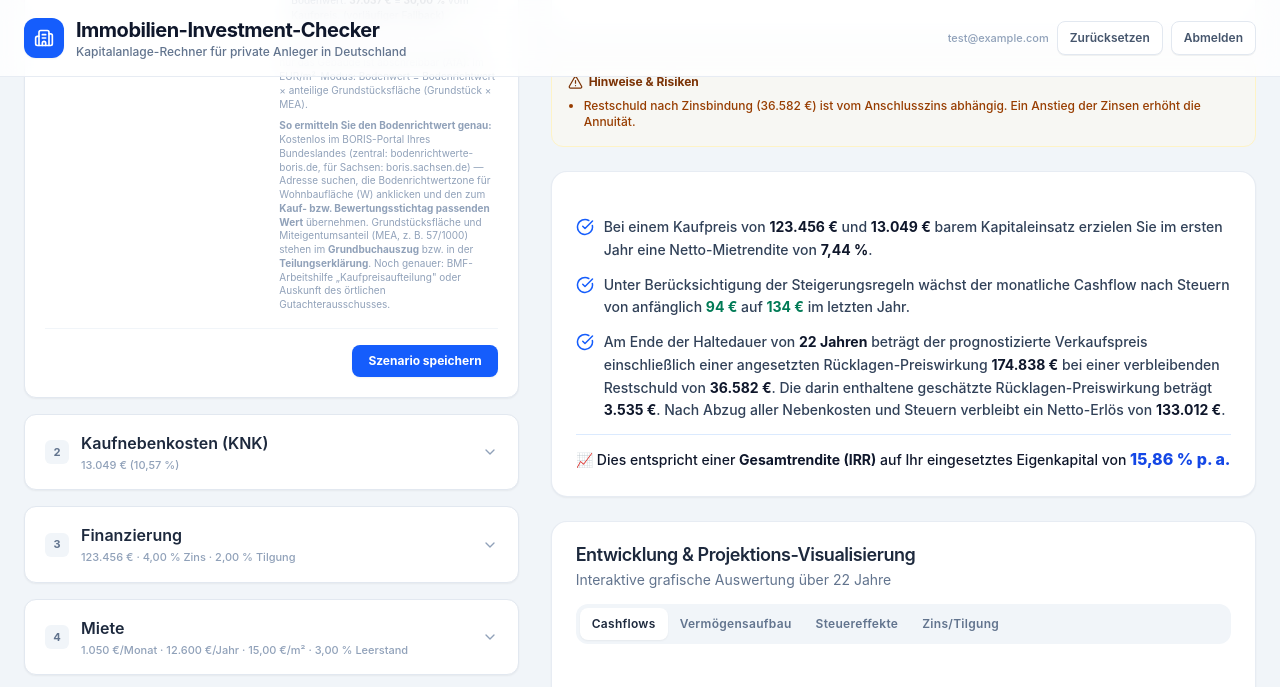
Test: Szenario speichern über Abschnitts-Buttons › speichert über den Abschnitts-Button immer das komplette Szenario
(page scrolled)
# Nur der Button des offenen Objekt-Abschnitts ist gerendert.
Click the button "Szenario speichern" at (425, 361), box [352,345,498,377]
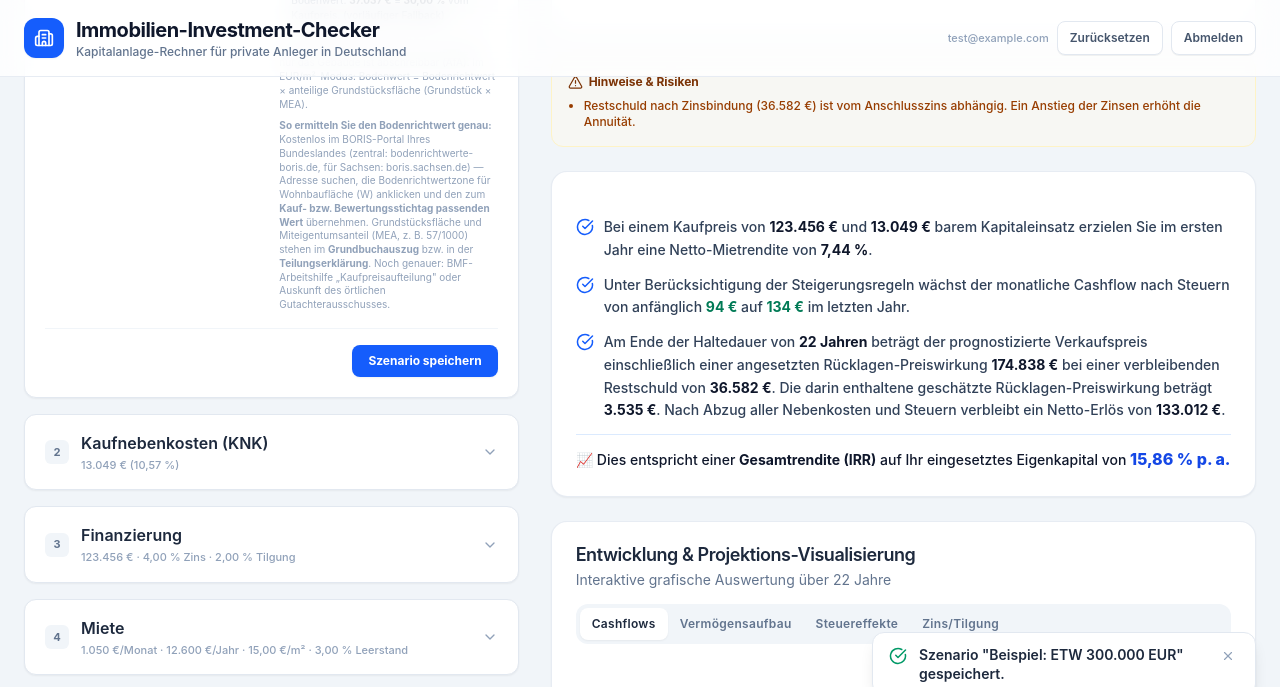
Expected: the message shows "gespeichert", [919,646,1184,682]
